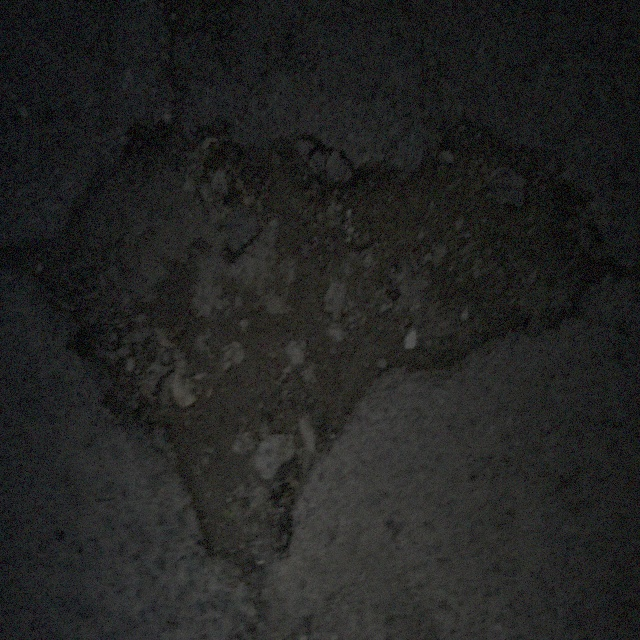pothole: (35, 103, 605, 591)
